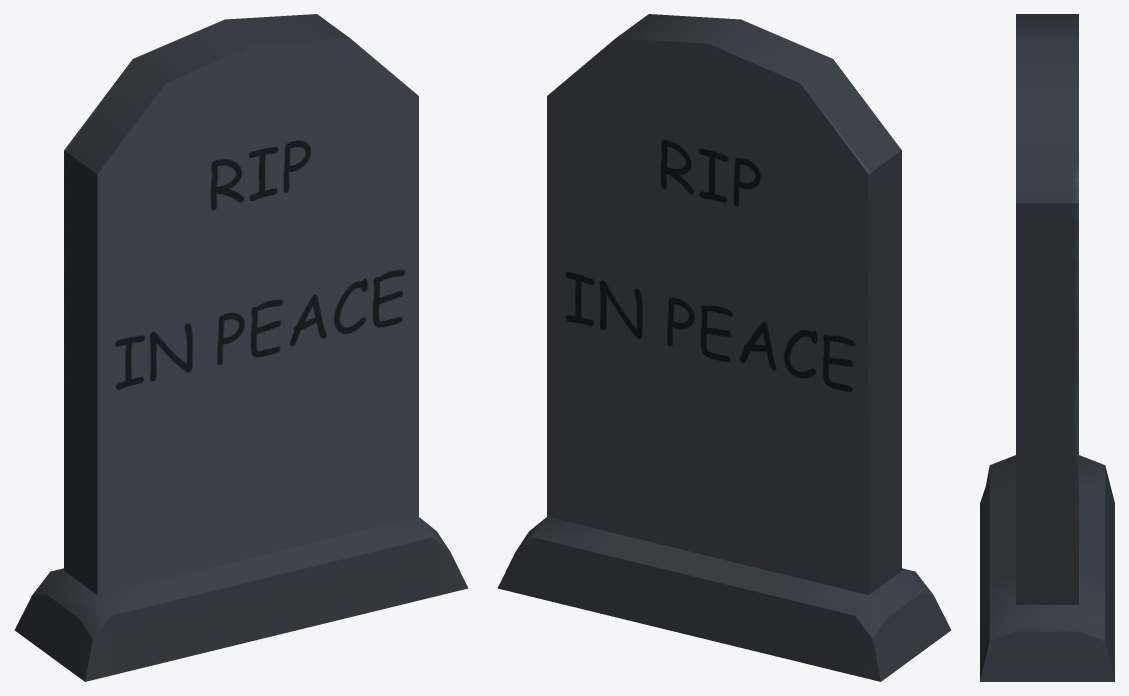
Rendered from grave_2.fbx.
3 renders of one model, left to right at view 1: azimuth 30°, elevation 25°; view 2: azimuth 150°, elevation 25°; view 3: azimuth 270°, elevation 25°, orthographic. The views are drawn at different scales.
Parts seen in each view (by area): view 1: pasted__pCube1; view 2: pasted__pCube1; view 3: pasted__pCube1.
Part boxes in pixels (box(x1,y1,x2,y2)): pasted__pCube1: box(14, 14, 468, 681); pasted__pCube1: box(497, 14, 951, 681); pasted__pCube1: box(980, 14, 1114, 681).
Size of the model in its own units: 128 by 184 by 40.8.
Materials: 1 (1 with a texture image).
